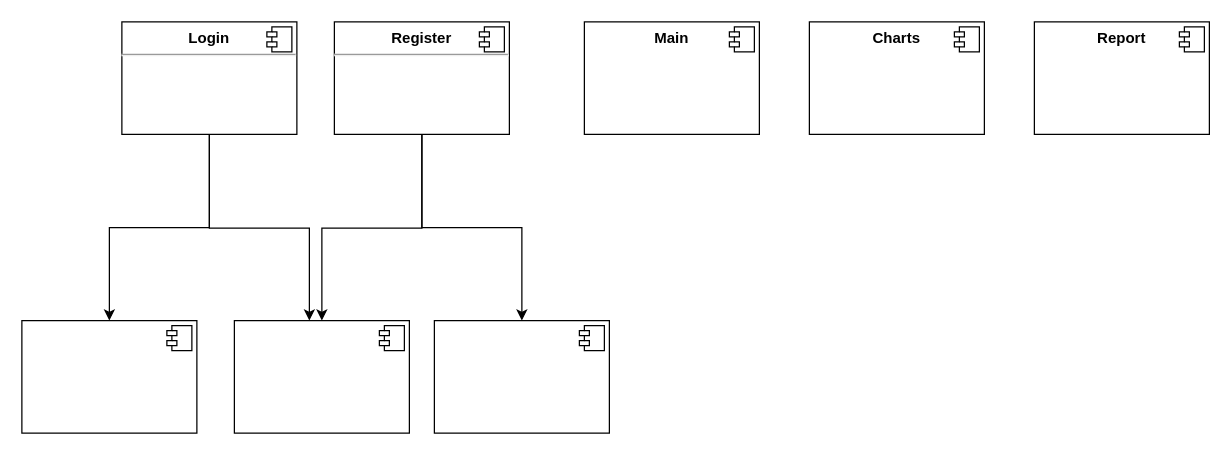
The diagram is 1231 pixels wide and 455 high, and some of its shapes have lost their labels. Here are the shapes that lost their labels. From the top down, the box of each, then its label:
(21, 319, 197, 433): LoginForm
(233, 319, 409, 433): Register img: String
(433, 319, 609, 433): RegForm
